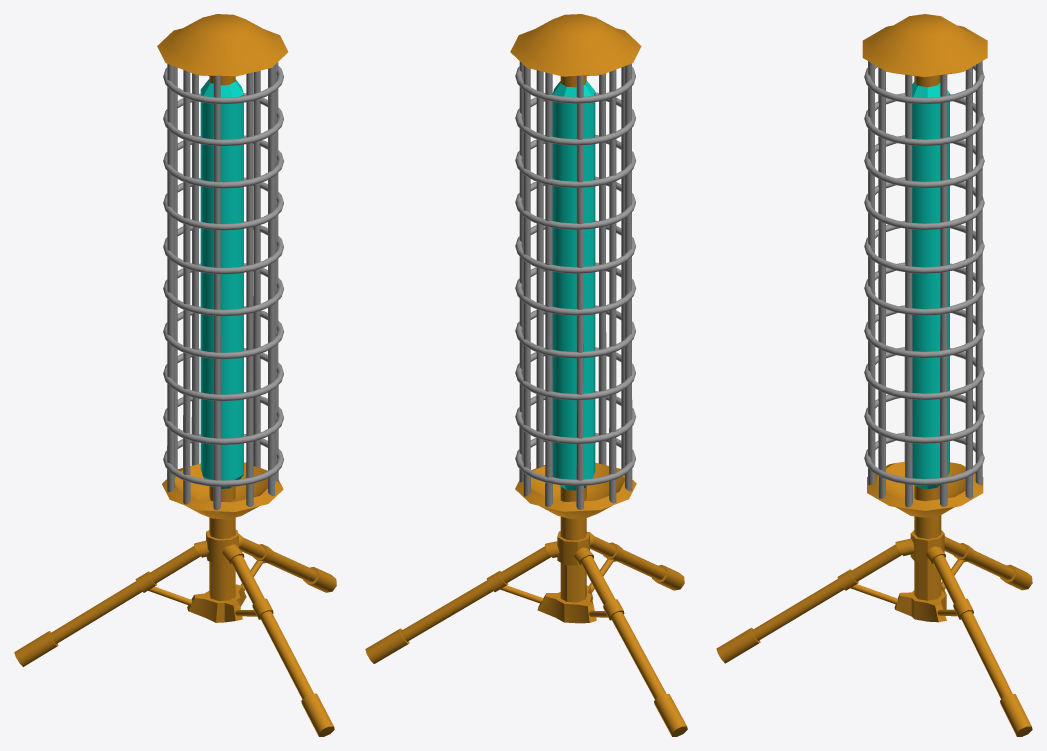
File: Construction Light.FBX
The picture shows the model from 3 angles, left to right: view 1: azimuth 30°, elevation 25°; view 2: azimuth 150°, elevation 25°; view 3: azimuth 270°, elevation 25°; orthographic projection.
Visible parts, largest first — view 1: Torus002; view 2: Torus002; view 3: Torus002.
Boxes of the visible parts, x1,y1,x2,y2 form: Torus002: (14,14,336,736); Torus002: (365,14,687,736); Torus002: (716,14,1032,736).
Size of the model in its own units: 38.07 by 72.65 by 32.65.
